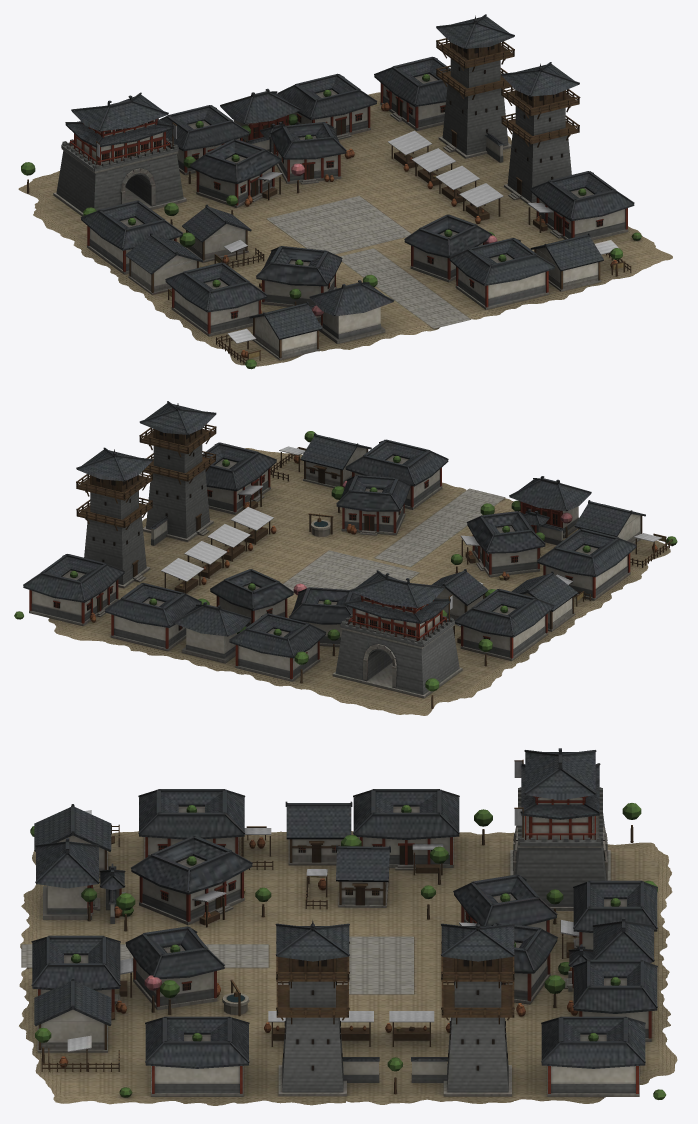
Rendered from classical-town-medium-a-sinic-78fdd546.glb.
3 views of the same model, one above another, from view 1: azimuth 30°, elevation 25°; view 2: azimuth 150°, elevation 25°; view 3: azimuth 270°, elevation 25° (orthographic). The views are drawn at different scales.
Parts seen in each view (by area): view 1: LOD0; view 2: LOD0; view 3: LOD0.
Boxes of the visible parts, box(x1,y1,x2,y2) form: LOD0: box(18, 14, 672, 369); LOD0: box(14, 401, 677, 715); LOD0: box(19, 748, 677, 1105).
Size of what is drawn, in the model's own units: 6.03 by 1.66 by 6.09.
Materials: 3 (3 with a texture image).
